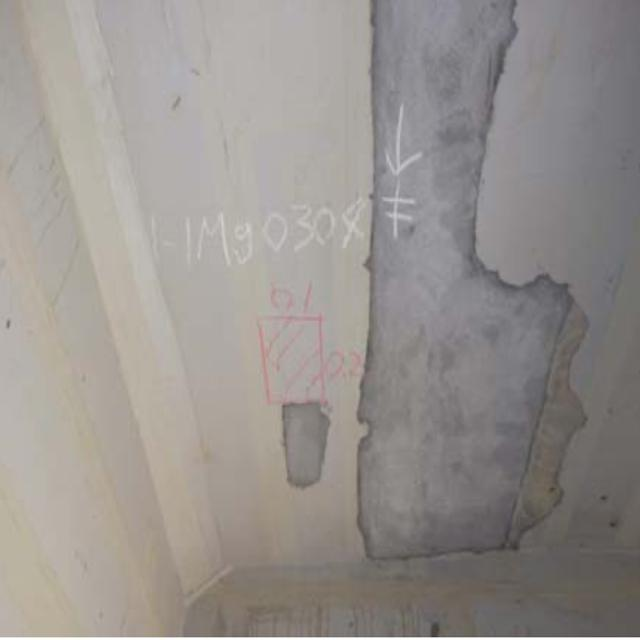spalling: (361, 4, 593, 560), (258, 407, 333, 499)
